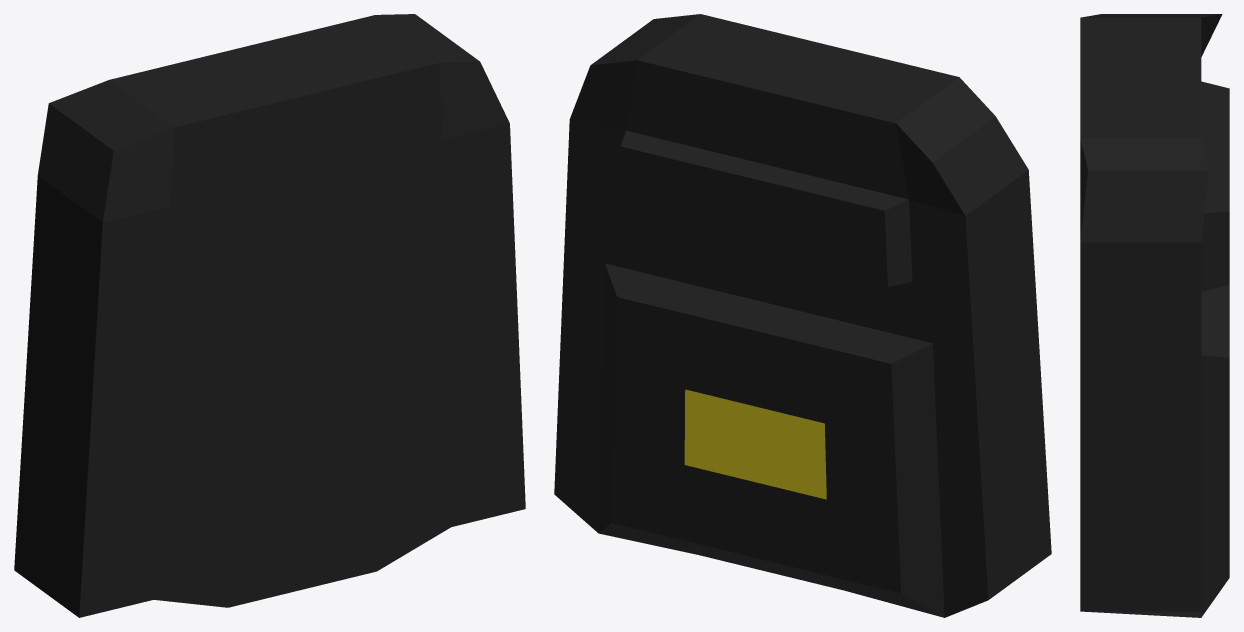
Rendered from Sac.fbx.
3 renders of one model, left to right at view 1: azimuth 30°, elevation 25°; view 2: azimuth 150°, elevation 25°; view 3: azimuth 270°, elevation 25°, orthographic. The views are drawn at different scales.
Parts seen in each view (by area): view 1: Back; view 2: Back; view 3: Back.
Boxes of the visible parts, x1,y1,x2,y2 form: Back: (14, 14, 525, 617); Back: (554, 14, 1051, 617); Back: (1080, 14, 1229, 617).
Size of the model in its own units: 50.5 by 53.65 by 15.74.
Materials: 1 (1 with a texture image).
